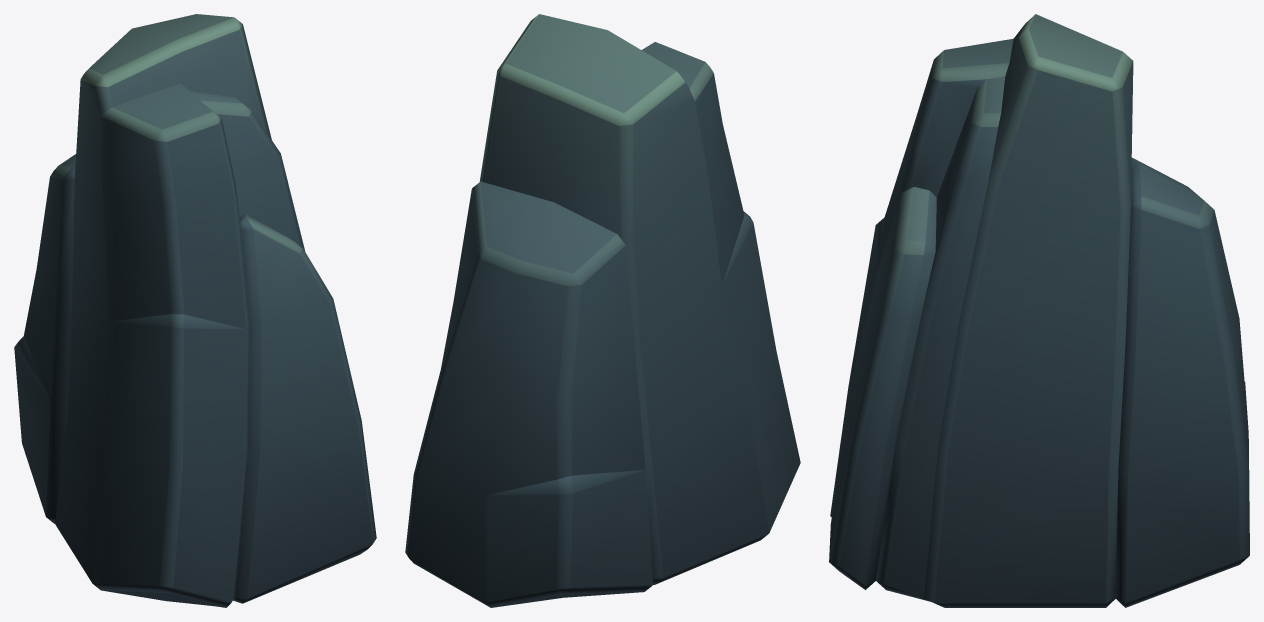
File: rock_14.fbx
3 views of the same model, side by side, from view 1: azimuth 30°, elevation 25°; view 2: azimuth 150°, elevation 25°; view 3: azimuth 270°, elevation 25° (orthographic). The views are drawn at different scales.
Visible parts, largest first — view 1: rock_14; view 2: rock_14; view 3: rock_14.
Part boxes in pixels (bbox=[...]): rock_14: bbox=[14, 14, 376, 607]; rock_14: bbox=[405, 14, 800, 607]; rock_14: bbox=[829, 14, 1249, 607].
Bounding box in the file's own units: 229 × 474 × 328.
